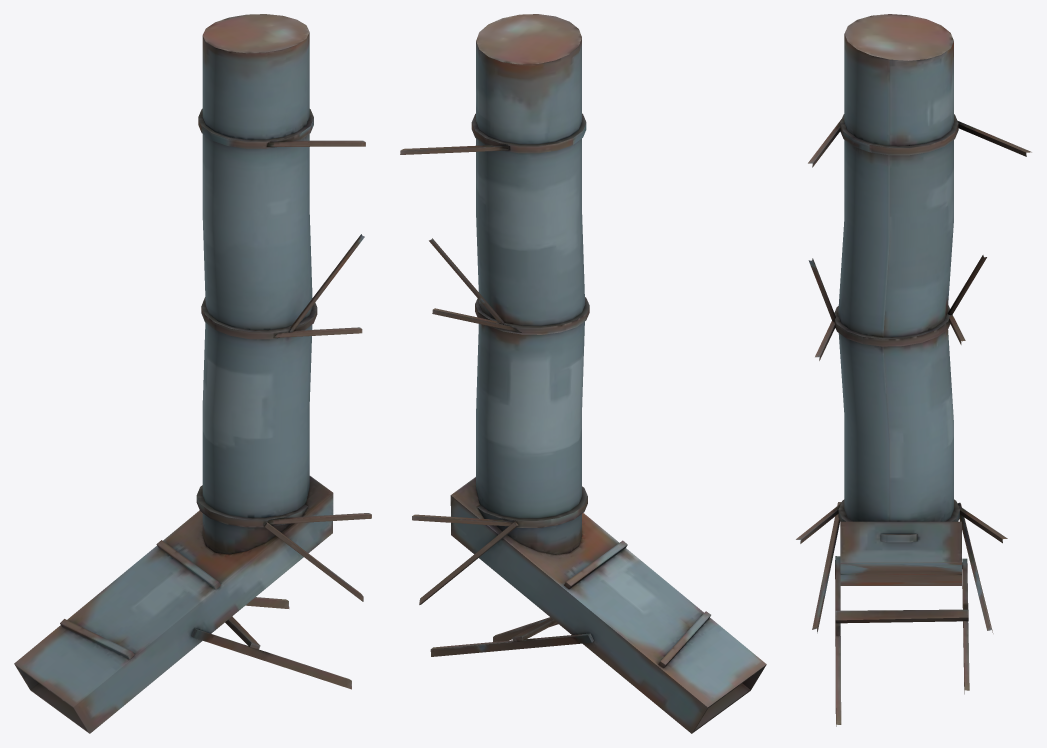
3 views of the same model, side by side, from view 1: azimuth 30°, elevation 25°; view 2: azimuth 150°, elevation 25°; view 3: azimuth 270°, elevation 25° (orthographic). The views are drawn at different scales.
Parts seen in each view (by area): view 1: body0_model0_lod0_mesh0; view 2: body0_model0_lod0_mesh0; view 3: body0_model0_lod0_mesh0.
Boxes of the visible parts, x1=… form: body0_model0_lod0_mesh0: x1=14, y1=14, x2=371, y2=733; body0_model0_lod0_mesh0: x1=400, y1=14, x2=766, y2=733; body0_model0_lod0_mesh0: x1=796, y1=14, x2=1031, y2=726.
Size of the model in its own units: 181 by 409 by 132.
1 material, 1 textured.
